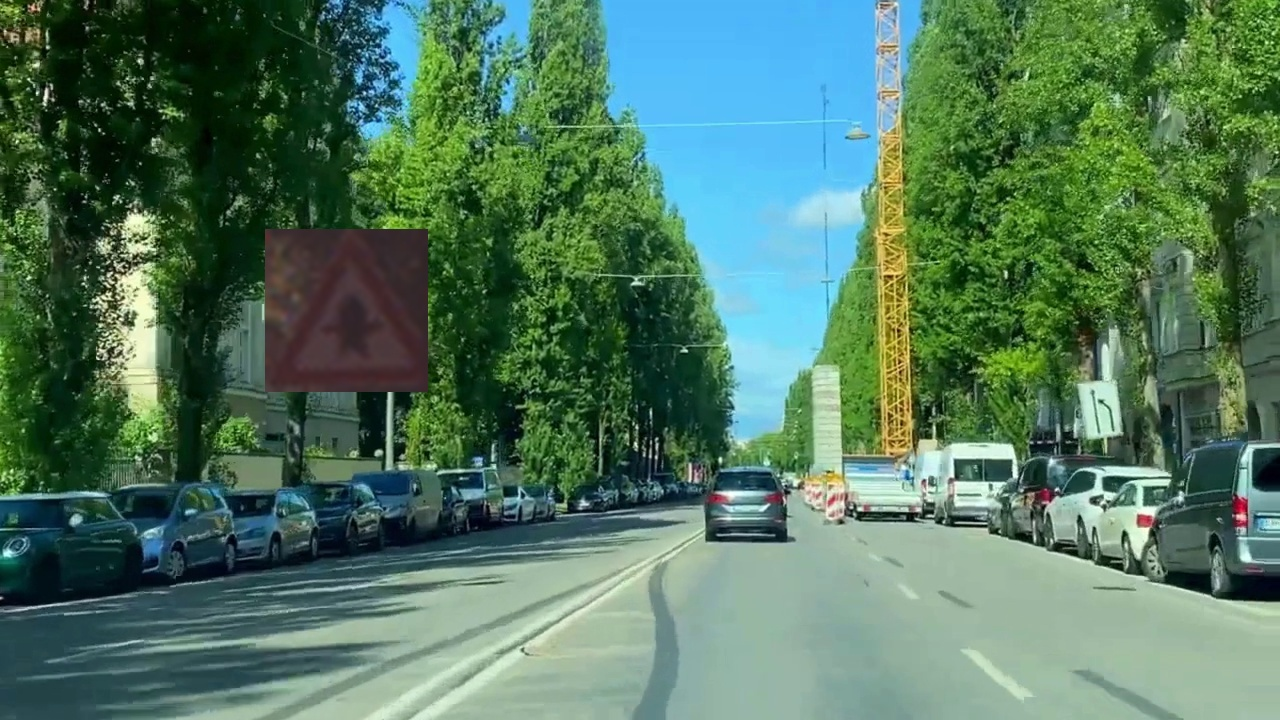Right-of-way: (265, 229, 428, 392)
